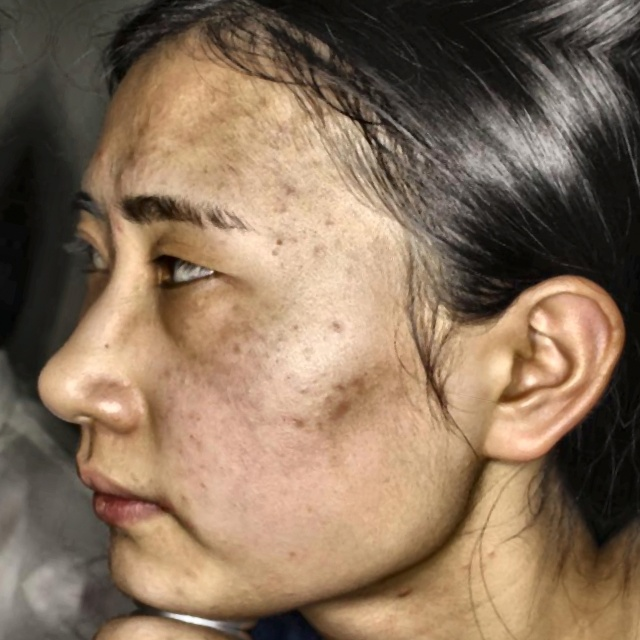comedone: (84, 140, 123, 167)
